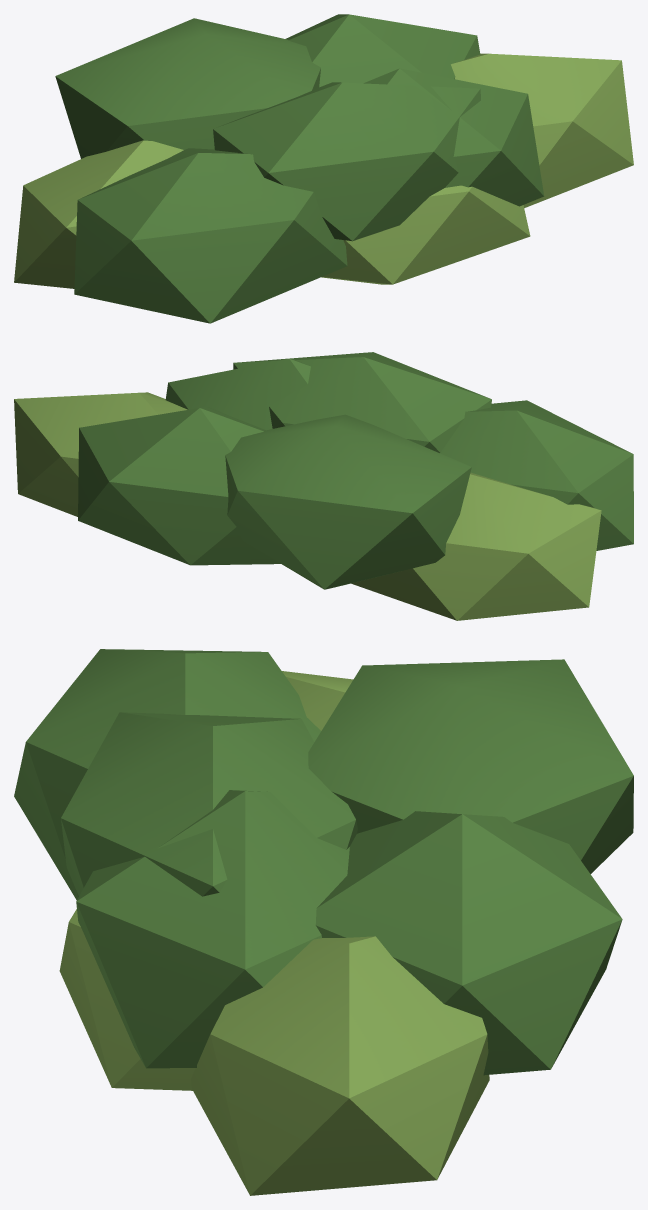
File: bush_a_b.glb
3 views of the same model, one above another, from view 1: azimuth 30°, elevation 25°; view 2: azimuth 150°, elevation 25°; view 3: azimuth 270°, elevation 25° (orthographic). The views are drawn at different scales.
Visible parts, largest first — view 1: bush_a_b; view 2: bush_a_b; view 3: bush_a_b.
Boxes of the visible parts, x1,y1,x2,y2 form: bush_a_b: (14, 14, 633, 323); bush_a_b: (14, 352, 633, 620); bush_a_b: (14, 649, 633, 1195).
Size of the model in its own units: 2.34 by 0.7781 by 1.38.
